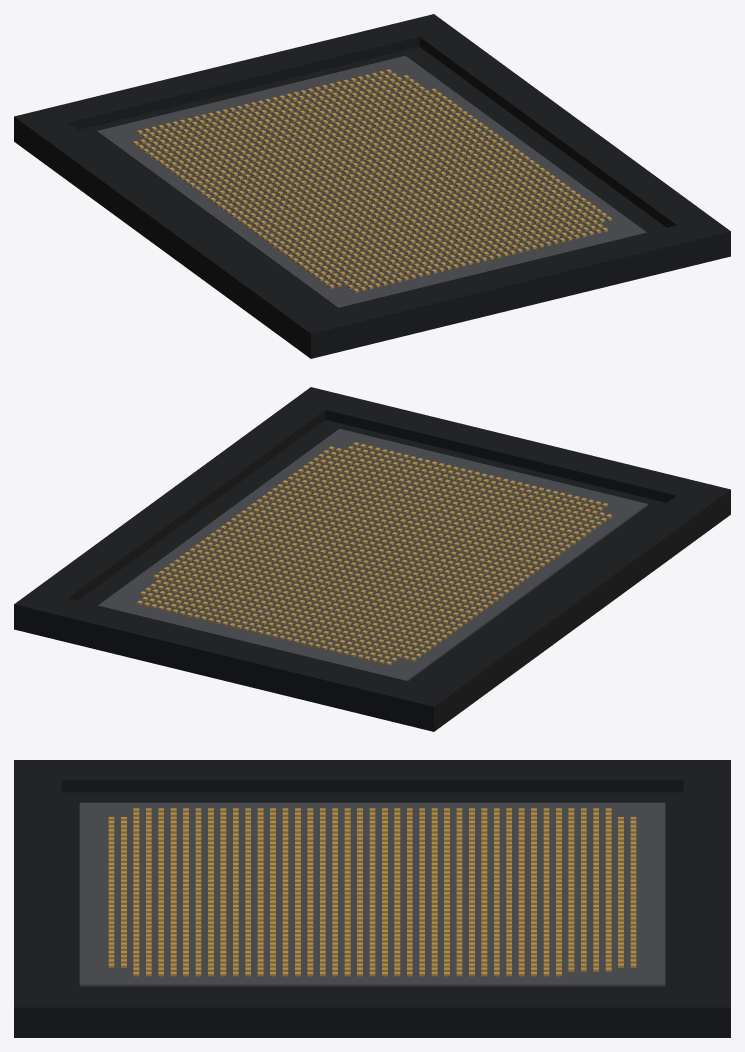
The model's file is L130_CPU_SOCKET.fbx.
3 views of the same model, one above another, from view 1: azimuth 30°, elevation 25°; view 2: azimuth 150°, elevation 25°; view 3: azimuth 270°, elevation 25° (orthographic). The views are drawn at different scales.
Parts seen in each view (by area): view 1: CPU_SOCKET__Plastic, CPU_SOCKET__Pad, CPU_SOCKET__Gold; view 2: CPU_SOCKET__Plastic, CPU_SOCKET__Pad, CPU_SOCKET__Gold; view 3: CPU_SOCKET__Plastic, CPU_SOCKET__Pad, CPU_SOCKET__Gold.
Boxes of the visible parts, x1,y1,x2,y2 form: CPU_SOCKET__Plastic: (14,14,730,358); CPU_SOCKET__Pad: (97,55,646,307); CPU_SOCKET__Gold: (133,69,611,292); CPU_SOCKET__Plastic: (14,387,730,731); CPU_SOCKET__Pad: (98,428,647,680); CPU_SOCKET__Gold: (137,442,611,665); CPU_SOCKET__Plastic: (14,760,730,1037); CPU_SOCKET__Pad: (79,802,665,986); CPU_SOCKET__Gold: (108,808,636,976).
Size of the model in its own units: 49 by 2.8 by 60.
